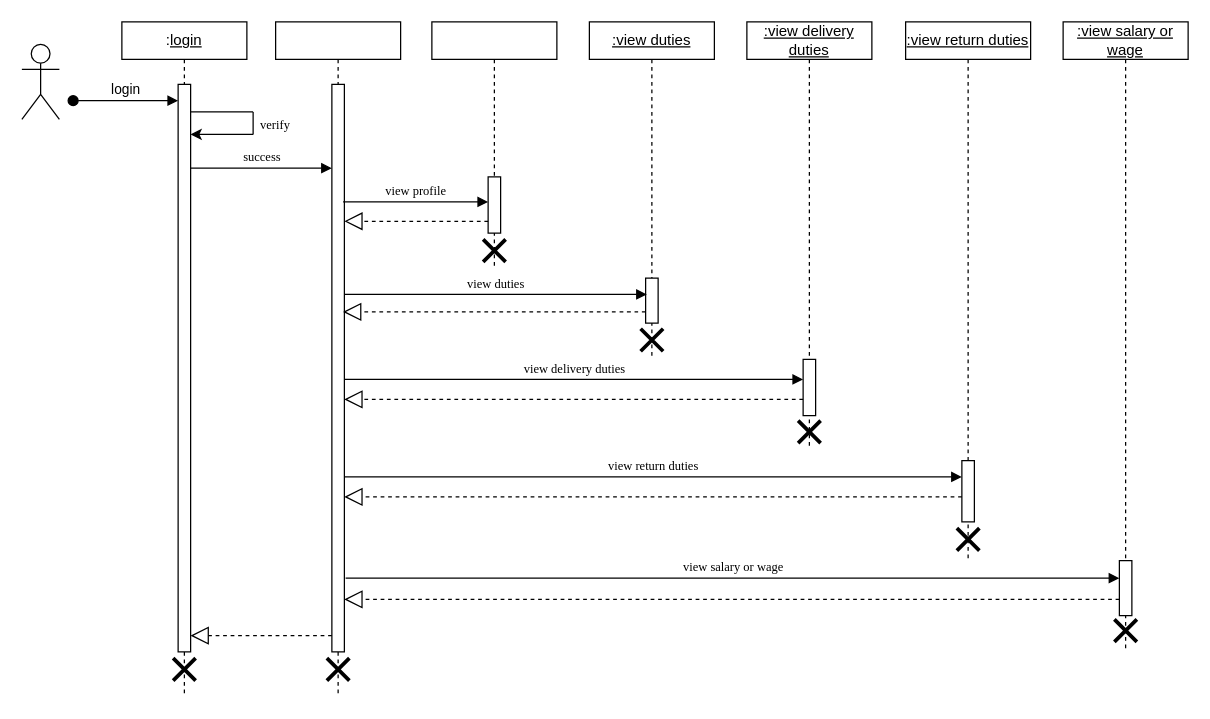
The diagram is 1210 pixels wide and 719 high, and some of its shapes have lost their labels. The box of each missing label's shape, as (x1, y1, x2, y2) in pixels:
: home: (274, 21, 401, 697)
:manage profile: (431, 21, 557, 269)
Staff: (21, 43, 59, 119)
